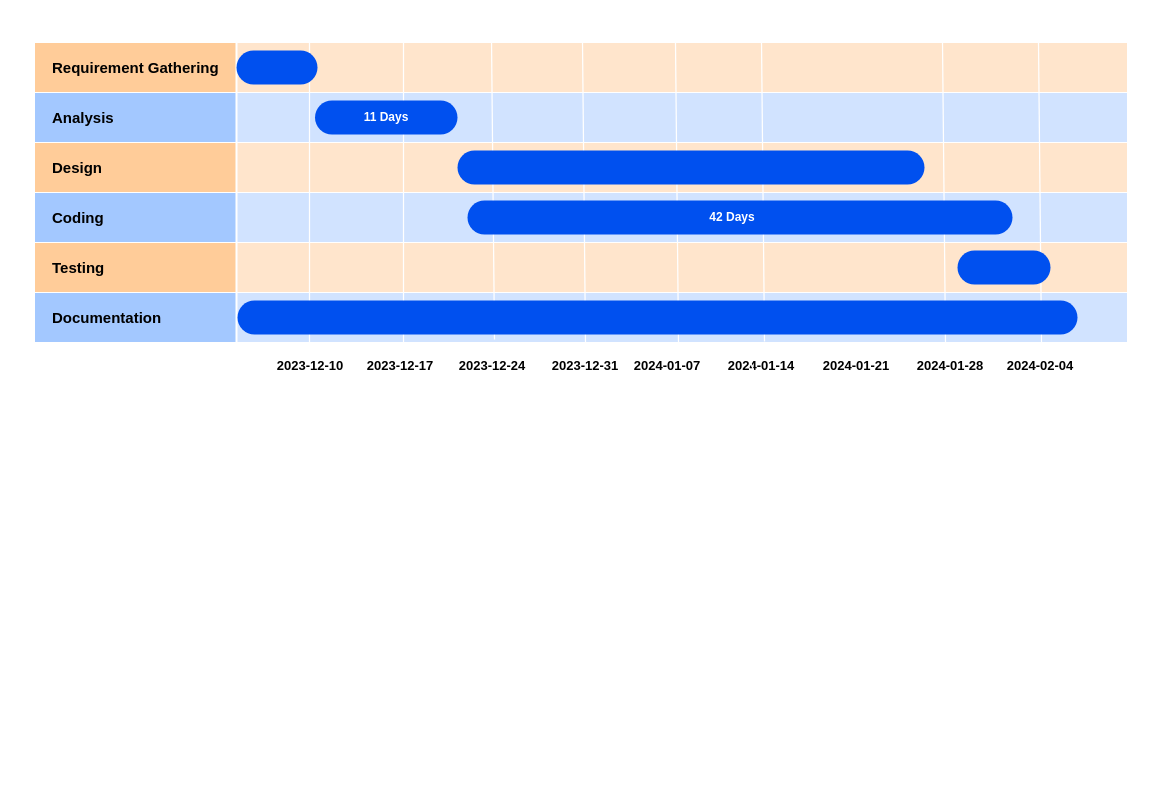
Image size: 1164x795. Some labels were removed from this diagram. Each missing label, with the box of its shape:
36 Days: (457, 150, 924, 184)
6 Days: (236, 50, 317, 84)
65 Days: (237, 300, 1077, 334)
7 Days: (957, 250, 1050, 284)
